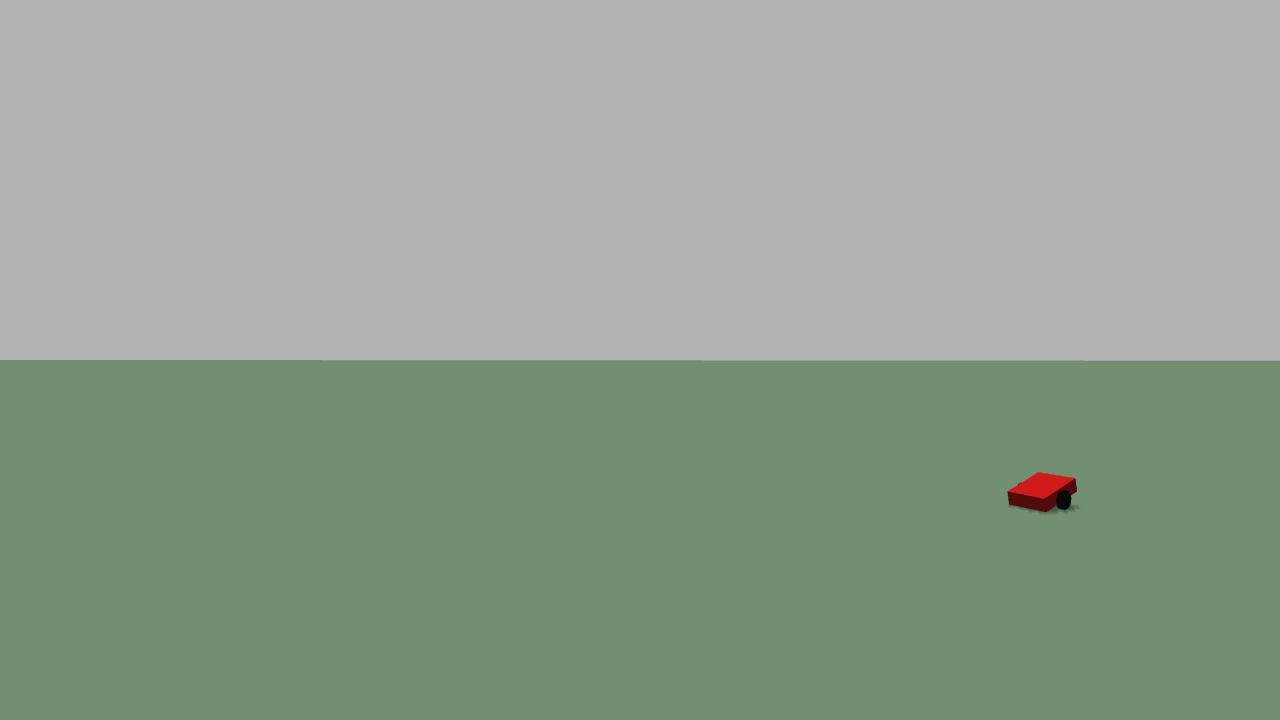ground_vehicle: (998, 463, 1087, 524)
